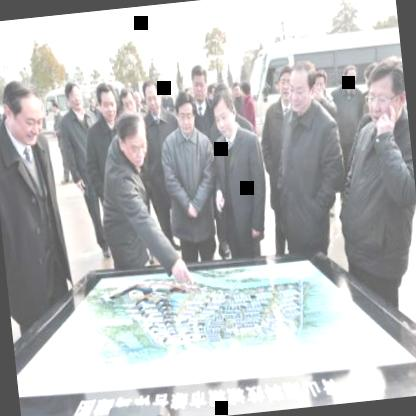head: (362, 52, 408, 128), (0, 76, 46, 147), (108, 108, 152, 172), (204, 83, 238, 138), (285, 63, 317, 114), (91, 78, 121, 126), (172, 90, 198, 136), (187, 56, 210, 104), (272, 60, 294, 104), (60, 78, 86, 115), (138, 76, 160, 116), (339, 63, 358, 92), (119, 85, 136, 116), (310, 68, 326, 100)
